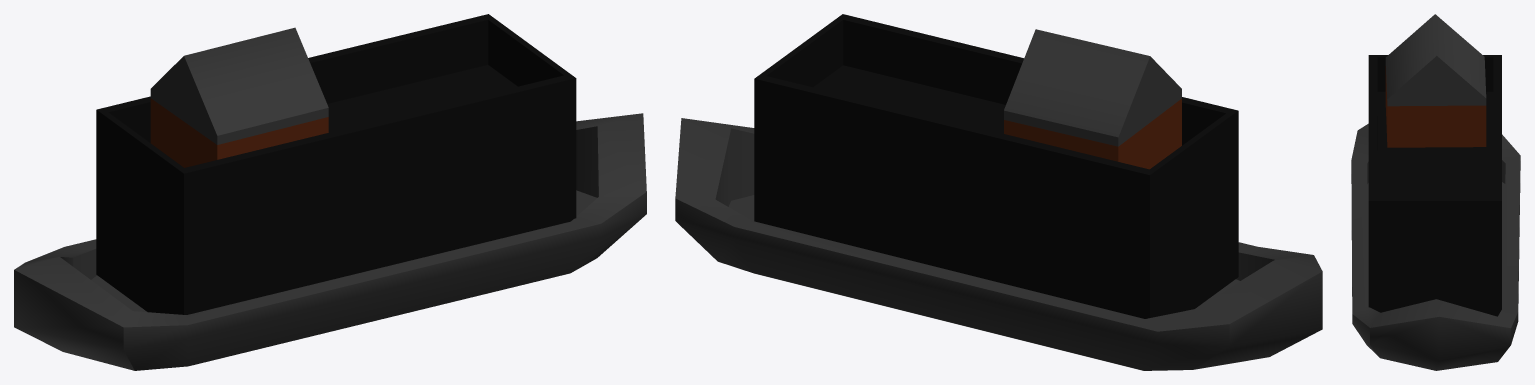
File: FishBoat.fbx
3 views of the same model, side by side, from view 1: azimuth 30°, elevation 25°; view 2: azimuth 150°, elevation 25°; view 3: azimuth 270°, elevation 25° (orthographic). The views are drawn at different scales.
Parts seen in each view (by area): view 1: FishBoat; view 2: FishBoat; view 3: FishBoat.
Part boxes in pixels (left/top/right/bottom): FishBoat: left=14, top=14, right=646, bottom=370; FishBoat: left=675, top=14, right=1322, bottom=370; FishBoat: left=1351, top=14, right=1520, bottom=370.
Bounding box in the file's own units: 18.43 × 7.46 × 5.61.
